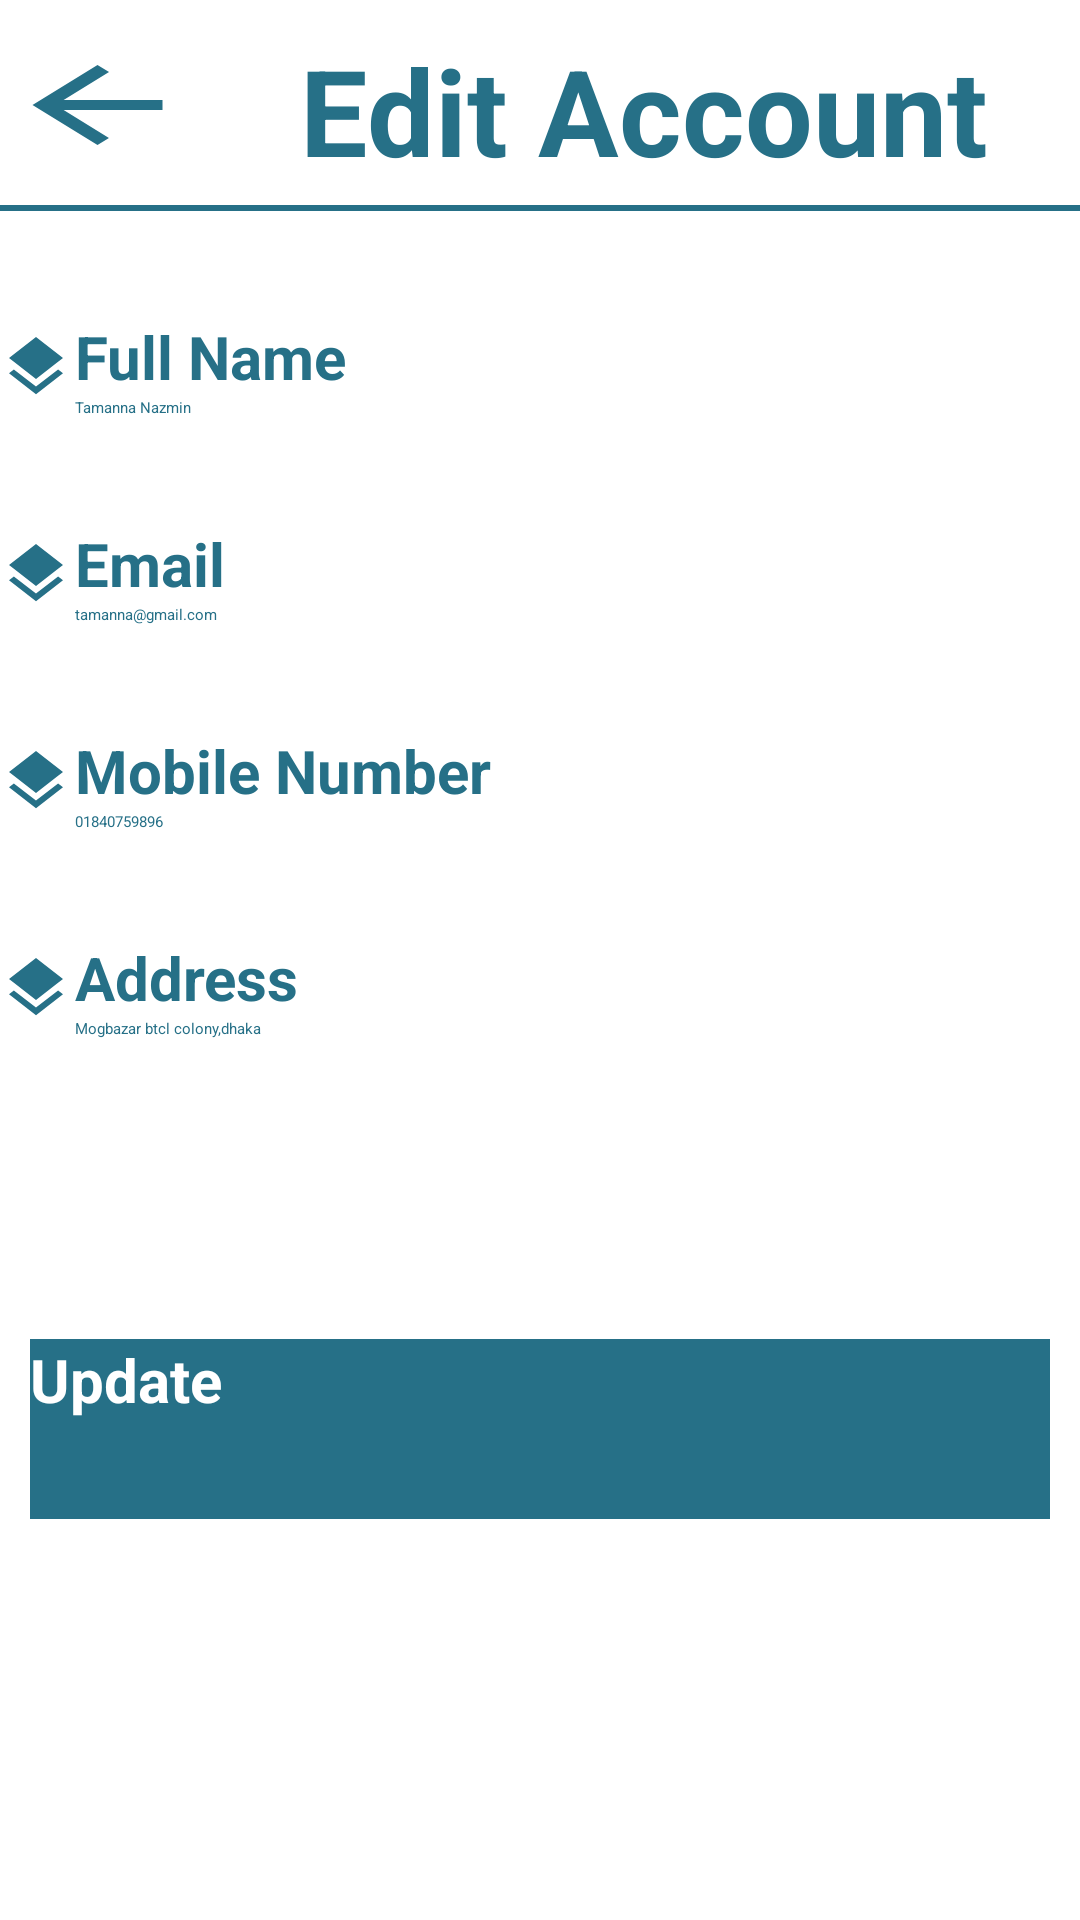

Icons on this 1080 x 1920 Android screen, each with its box as (x1, y1, x2, y2):
arrow back: (33, 65, 163, 145)
layers: (9, 337, 63, 394), (9, 544, 63, 601), (9, 751, 63, 808), (9, 958, 63, 1015)
